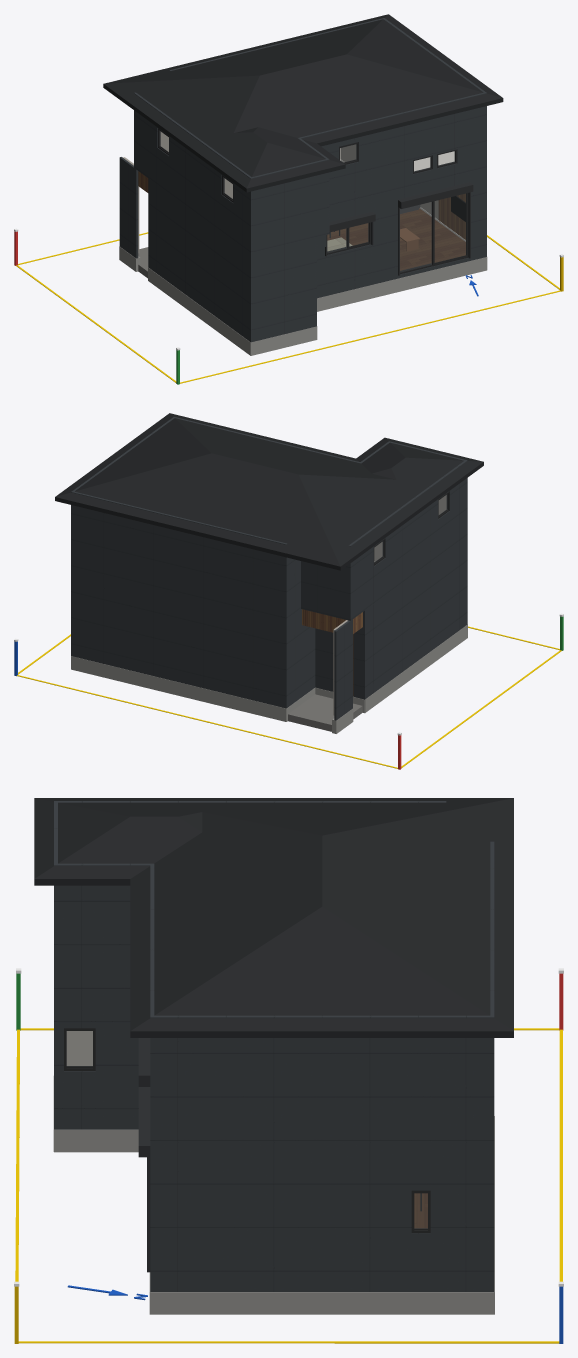
File: B_24_flat.glb
3 renders of one model, top to bottom at view 1: azimuth 30°, elevation 25°; view 2: azimuth 150°, elevation 25°; view 3: azimuth 270°, elevation 25°, orthographic. The views are drawn at different scales.
Parts seen in each view (by area): view 1: siding, roof, glass, found, floor, shutter, frame, lotline, wall, accent; view 2: siding, roof, found, lotline, tile, woodceil, wall; view 3: siding, roof, found, lotline, shutter, glass, wall, frame.
Part boxes in pixels (bbox=[...]): siding: bbox=[119, 18, 486, 342]; roof: bbox=[103, 14, 503, 192]; glass: bbox=[160, 132, 465, 271]; found: bbox=[119, 246, 487, 355]; floor: bbox=[327, 208, 465, 270]; shutter: bbox=[325, 182, 473, 275]; frame: bbox=[158, 128, 468, 274]; lotline: bbox=[16, 232, 560, 383]; wall: bbox=[123, 131, 438, 253]; accent: bbox=[438, 193, 465, 239]; siding: bbox=[71, 417, 467, 720]; roof: bbox=[55, 413, 483, 570]; found: bbox=[71, 624, 467, 733]; lotline: bbox=[17, 626, 561, 768]; tile: bbox=[288, 694, 362, 731]; woodceil: bbox=[302, 609, 362, 633]; wall: bbox=[333, 495, 446, 715]; siding: bbox=[54, 801, 494, 1291]; roof: bbox=[34, 798, 513, 1037]; found: bbox=[53, 1076, 494, 1314]; lotline: bbox=[15, 1028, 562, 1343]; shutter: bbox=[138, 1038, 150, 1272]; glass: bbox=[67, 1031, 427, 1227]; wall: bbox=[66, 1031, 92, 1065]; frame: bbox=[64, 1028, 430, 1233].
Bounding box in the file's own units: 14.14 × 7.01 × 10.42.
Materials: 31 (6 with a texture image).
